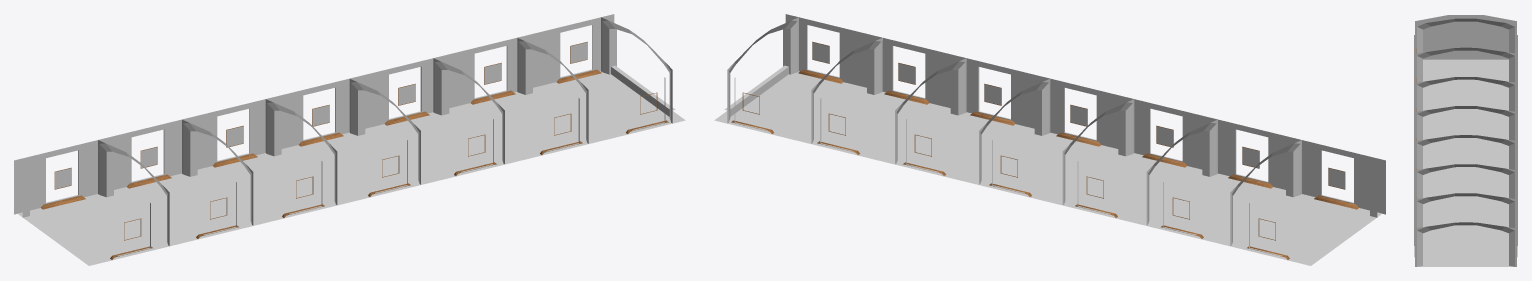
Rendered from newyork.gltf.
The picture shows the model from 3 angles, left to right: view 1: azimuth 30°, elevation 25°; view 2: azimuth 150°, elevation 25°; view 3: azimuth 270°, elevation 25°; orthographic projection. The views are drawn at different scales.
Visible parts, largest first — view 1: Floor, Concrete, Beams, Cube.004; view 2: Floor, Concrete, Beams, Cube.004; view 3: Floor, Beams, Concrete.
Boxes of the visible parts, bbox=[...] form: Floor: bbox=[18, 71, 685, 265]; Concrete: bbox=[14, 14, 675, 256]; Beams: bbox=[22, 17, 672, 245]; Cube.004: bbox=[41, 69, 668, 259]; Floor: bbox=[714, 71, 1381, 265]; Concrete: bbox=[724, 14, 1385, 256]; Beams: bbox=[727, 17, 1377, 245]; Cube.004: bbox=[731, 69, 1358, 259]; Floor: bbox=[1417, 59, 1514, 266]; Beams: bbox=[1415, 18, 1516, 266]; Concrete: bbox=[1414, 15, 1517, 259].
Size of what is drawn, in the model's own units: 43.31 by 4.35 by 9.13.
1 material, 1 textured.
